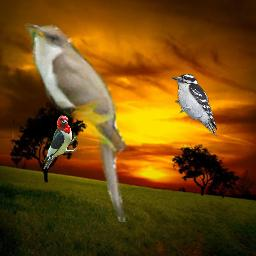Cuckoo: (19, 19, 130, 225)
Woodpecker: (171, 74, 217, 137), (42, 115, 77, 169)
